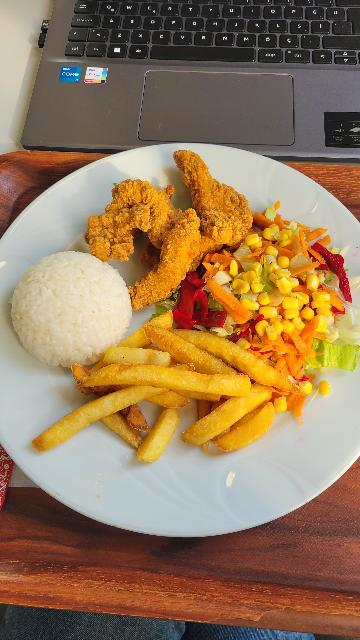Organik: (175, 204, 360, 421), (34, 312, 287, 469), (71, 150, 252, 311), (12, 250, 130, 364)
